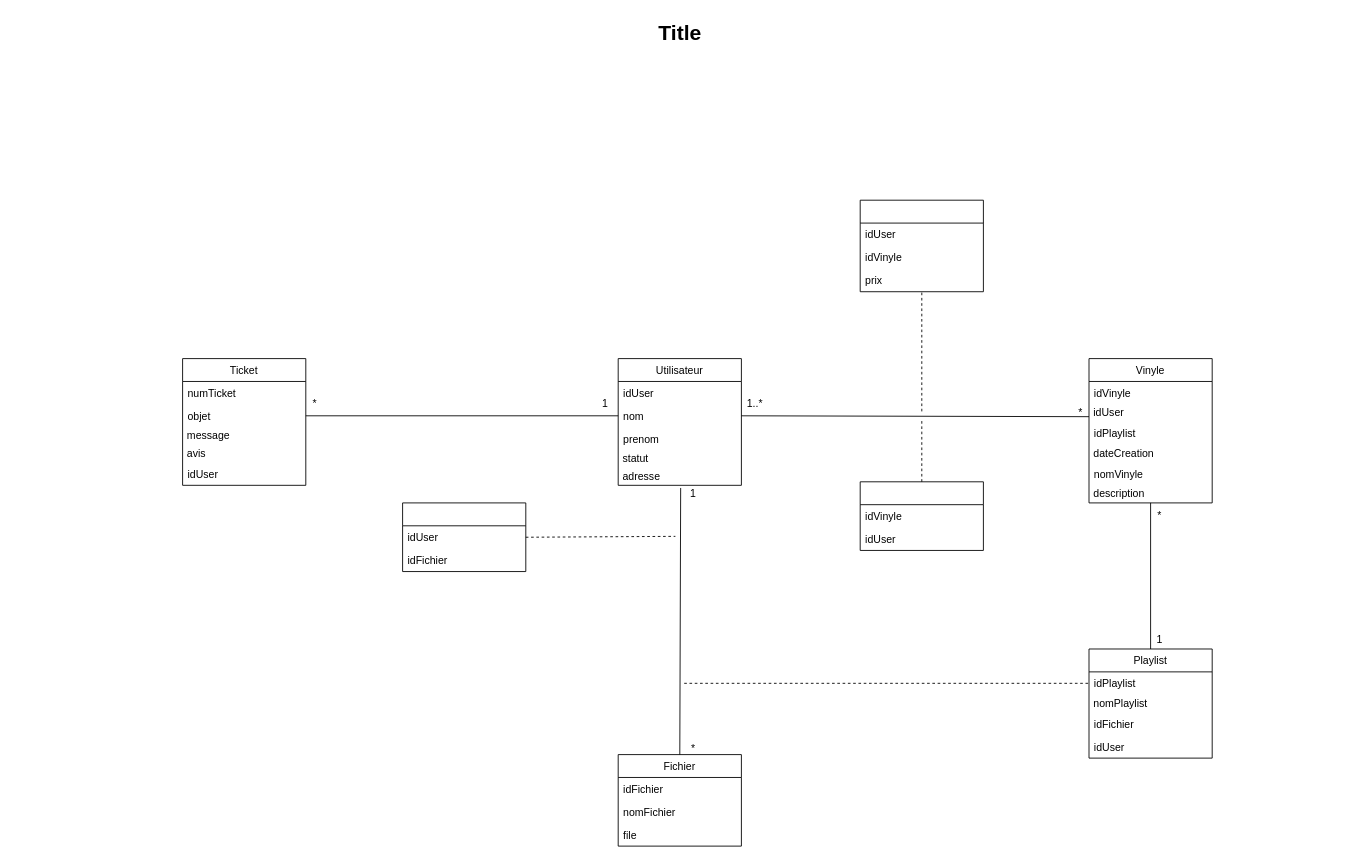
Some shapes in this 1359 by 863 pixel diagram are drawn without their labels. The box of each missing label's shape, as (x1, y1, x2, y2) in pixels:
Collaboration: (859, 481, 983, 550)
Commande: (859, 199, 983, 292)
Possède: (402, 502, 526, 572)
